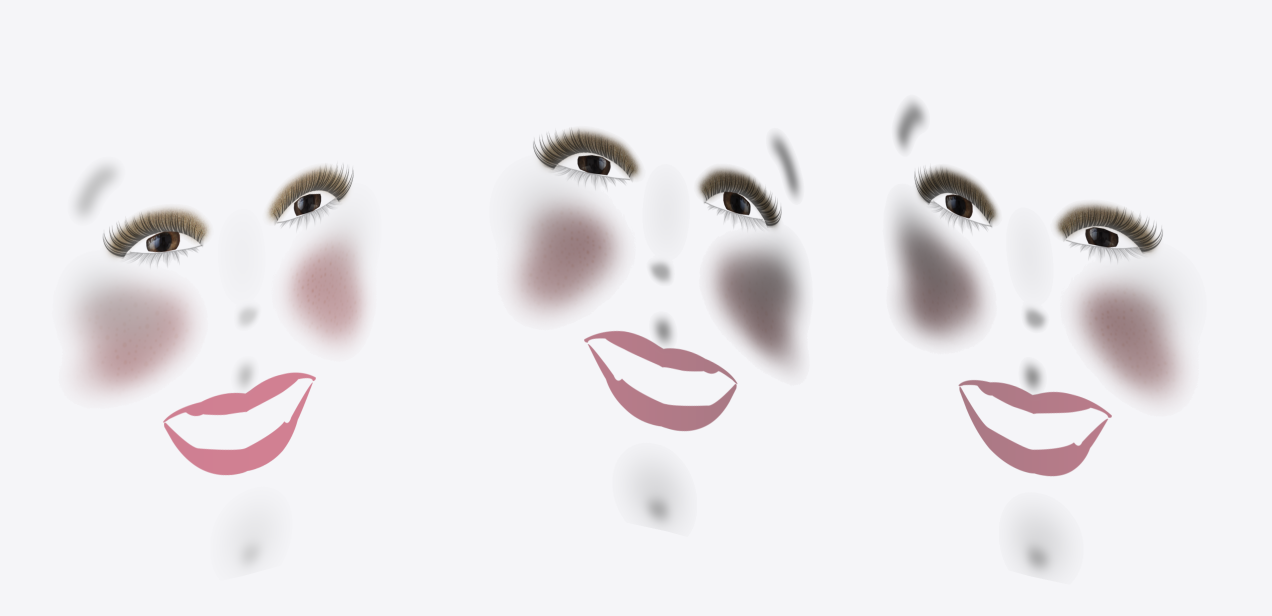
3 views of the same model, side by side, from view 1: azimuth 30°, elevation 25°; view 2: azimuth 150°, elevation 25°; view 3: azimuth 330°, elevation 25° (orthographic).
Bounding box in the file's own units: 3.82 × 4.53 × 0.5117.
Materials: 1 (1 with a texture image).
